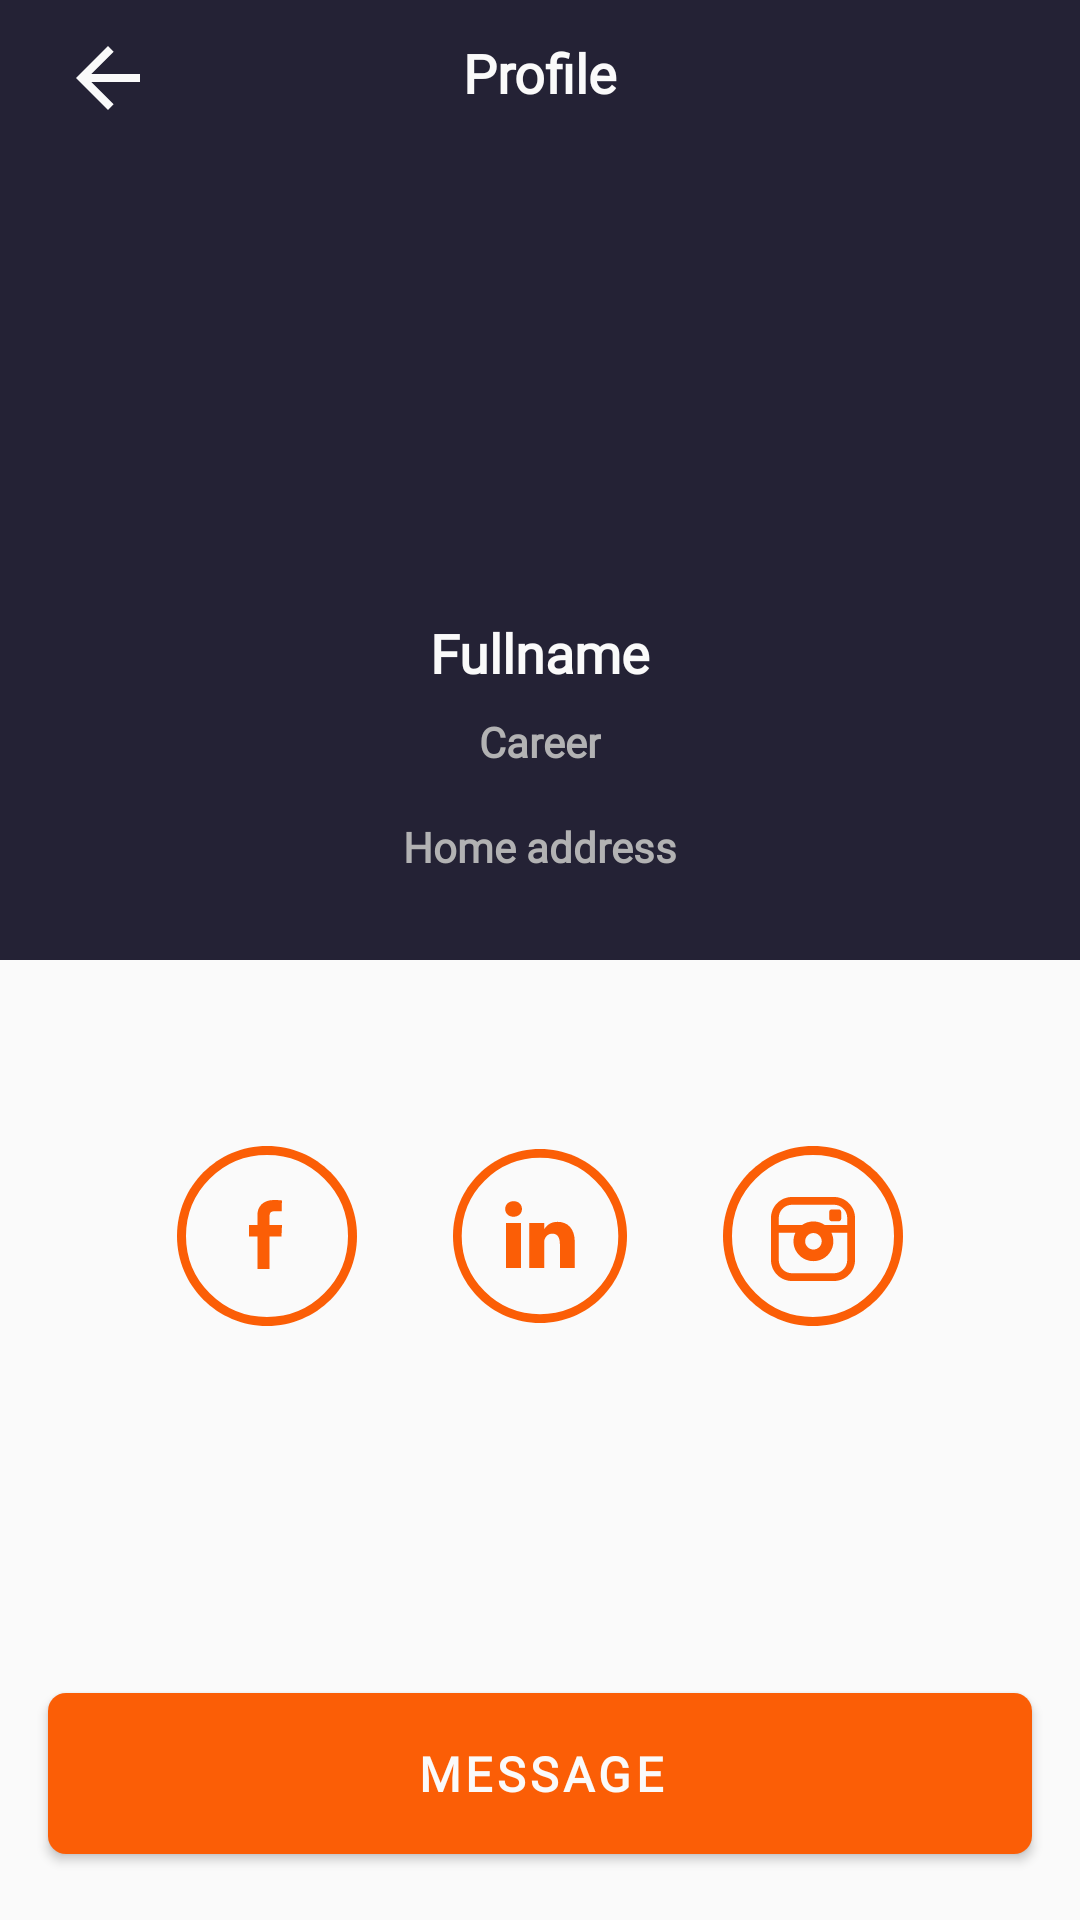

Where icons sit on this 1080x1920 app screen, as (x1, y1, x2, y2):
Back arrow navigation: (76, 46, 140, 110)
